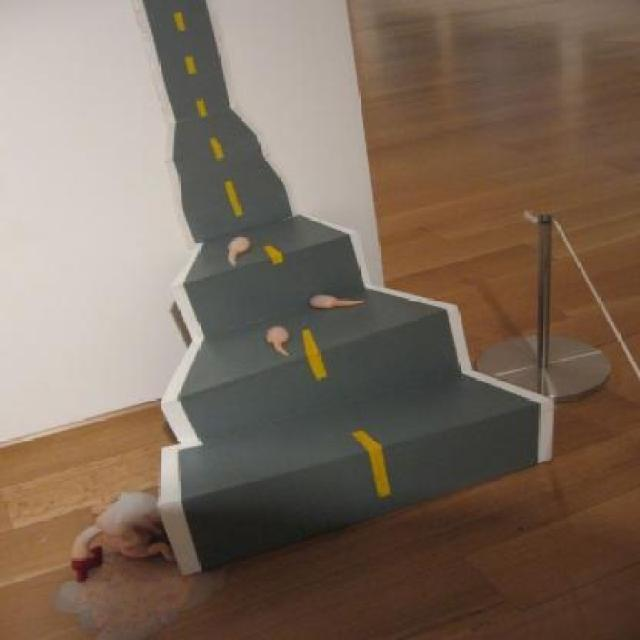stair: (158, 214, 558, 578)
